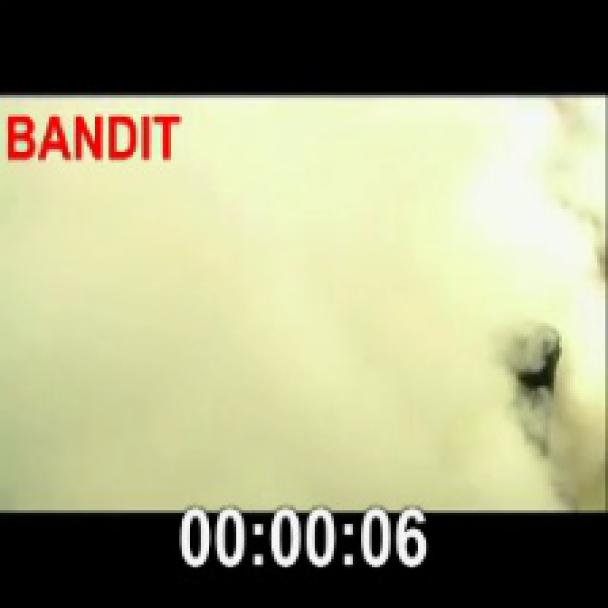smoke: (11, 100, 606, 506)
